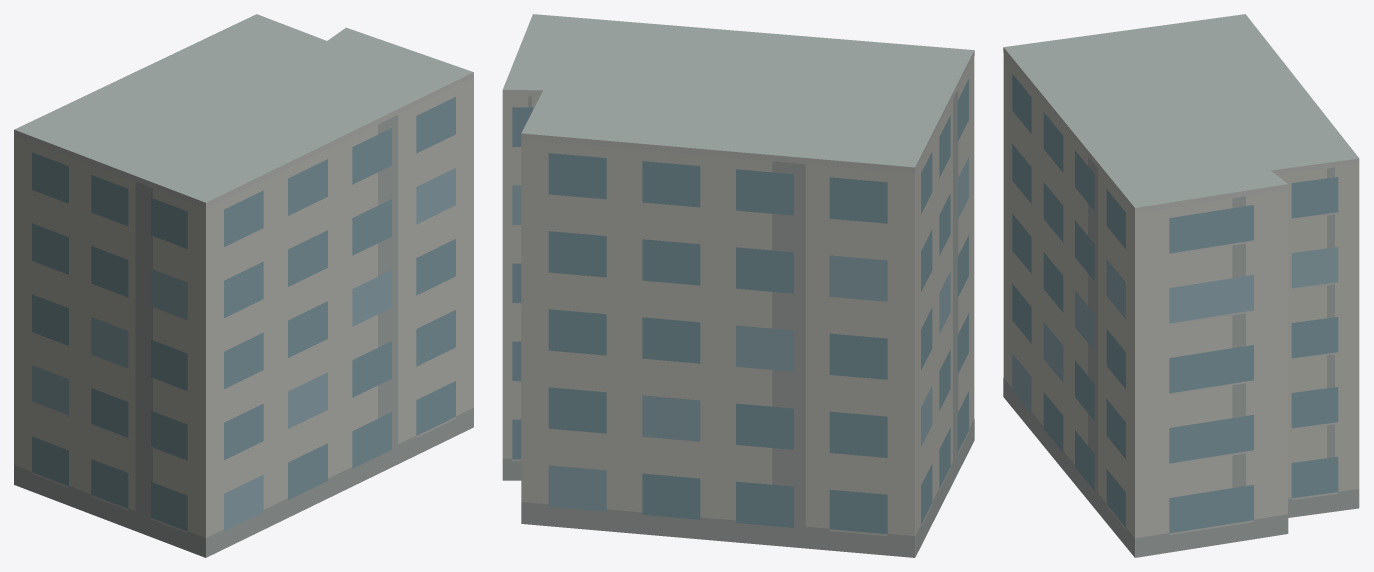
File: residential-f84b4cf0-53e9-46a0-b21e-ce78fd63e3db.glb
The picture shows the model from 3 angles, left to right: view 1: azimuth 30°, elevation 25°; view 2: azimuth 150°, elevation 25°; view 3: azimuth 270°, elevation 25°; orthographic projection. The views are drawn at different scales.
Parts seen in each view (by area): view 1: residential-f84b4cf0-53e9-46a0-b21e-ce78fd63e3db.tmp; view 2: residential-f84b4cf0-53e9-46a0-b21e-ce78fd63e3db.tmp; view 3: residential-f84b4cf0-53e9-46a0-b21e-ce78fd63e3db.tmp.
Boxes of the visible parts, <box> form: residential-f84b4cf0-53e9-46a0-b21e-ce78fd63e3db.tmp: <box>14,14,473,557</box>; residential-f84b4cf0-53e9-46a0-b21e-ce78fd63e3db.tmp: <box>502,14,974,557</box>; residential-f84b4cf0-53e9-46a0-b21e-ce78fd63e3db.tmp: <box>1003,14,1359,557</box>.
Size of the model in its own units: 18.15 by 15.25 by 14.07.
